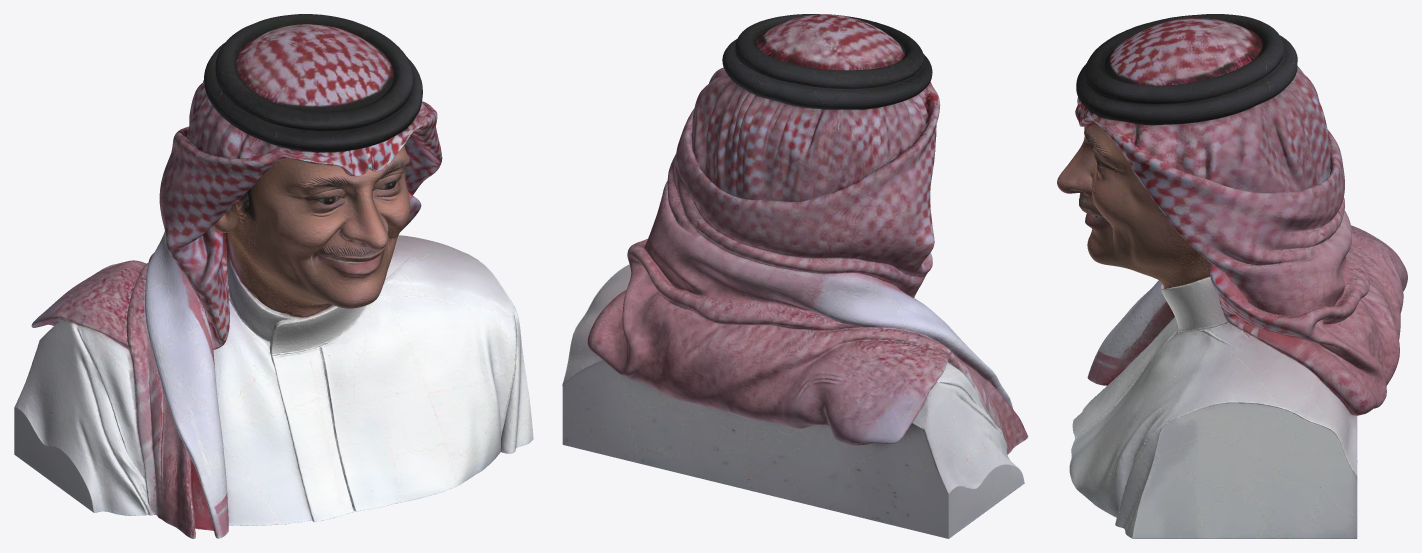
Rendered from Mageed.preview-v1.glb.
3 renders of one model, left to right at view 1: azimuth 30°, elevation 25°; view 2: azimuth 150°, elevation 25°; view 3: azimuth 270°, elevation 25°, orthographic. The views are drawn at different scales.
Visible parts, largest first — view 1: tmpoouksi55.obj; view 2: tmpoouksi55.obj; view 3: tmpoouksi55.obj.
Part boxes in pixels (x1,y1,x2,y2): tmpoouksi55.obj: (14, 14, 533, 538); tmpoouksi55.obj: (562, 14, 1028, 538); tmpoouksi55.obj: (1057, 14, 1407, 538).
Size of the model in its own units: 1.4 by 1.41 by 1.07.
1 material, 1 textured.
